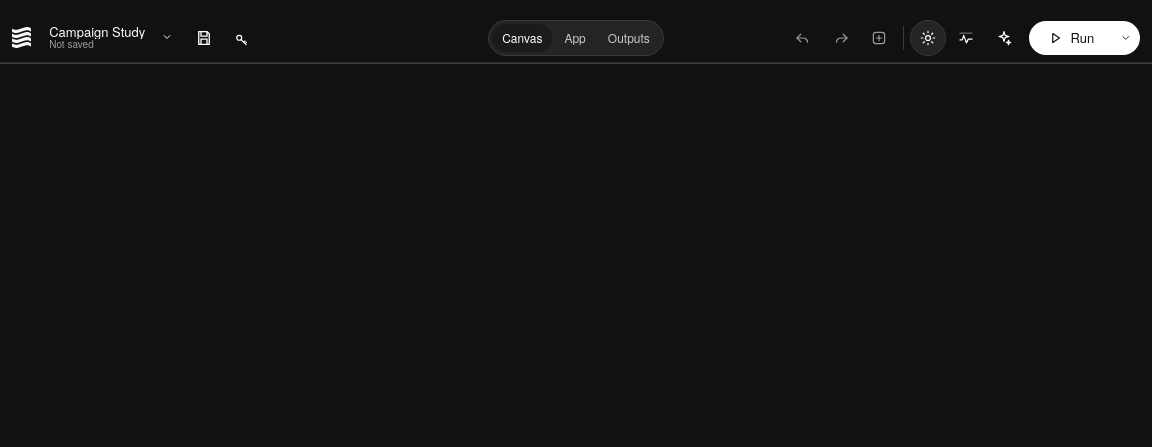
Test: CurrentCommandBar › opens and closes the project menu with Escape and outside click
Click the button with aria-label "Project menu for Campaign Study".
click(112, 37)  # box [39,20,184,55]
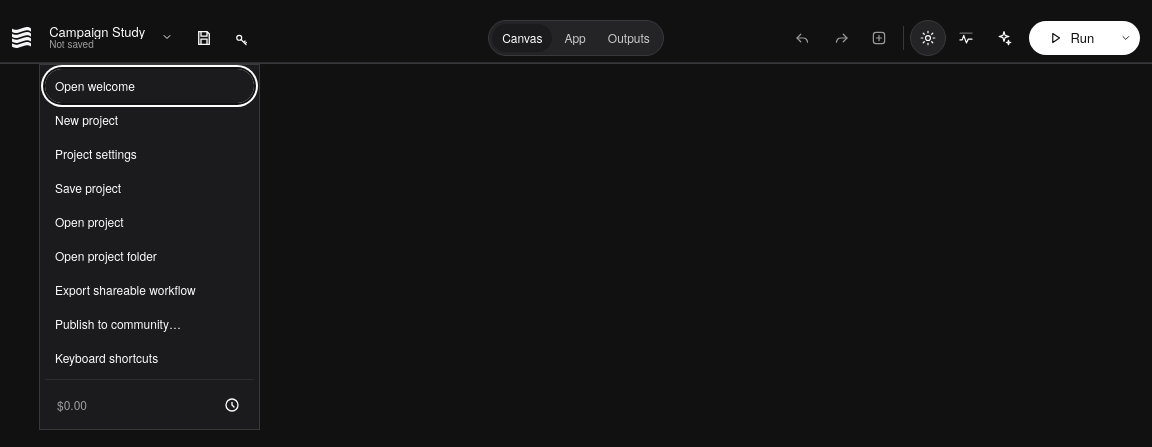
Press Escape
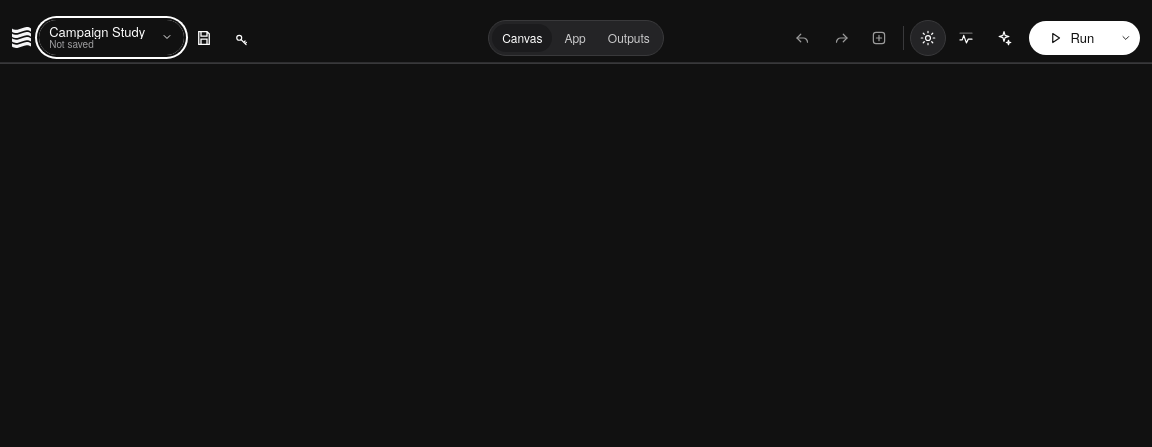
Now the menu "Project menu" is gone
Click the button with aria-label "Project menu for Campaign Study".
click(112, 37)  # box [39,20,184,55]
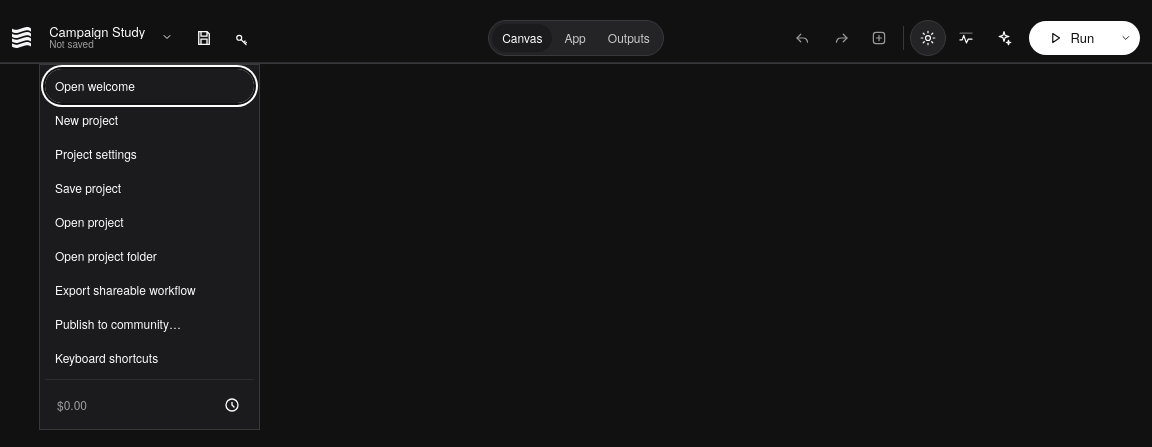
Press the mouse on the element that starts with "Campaign Study" at (576,38), box [0,12,1151,64]
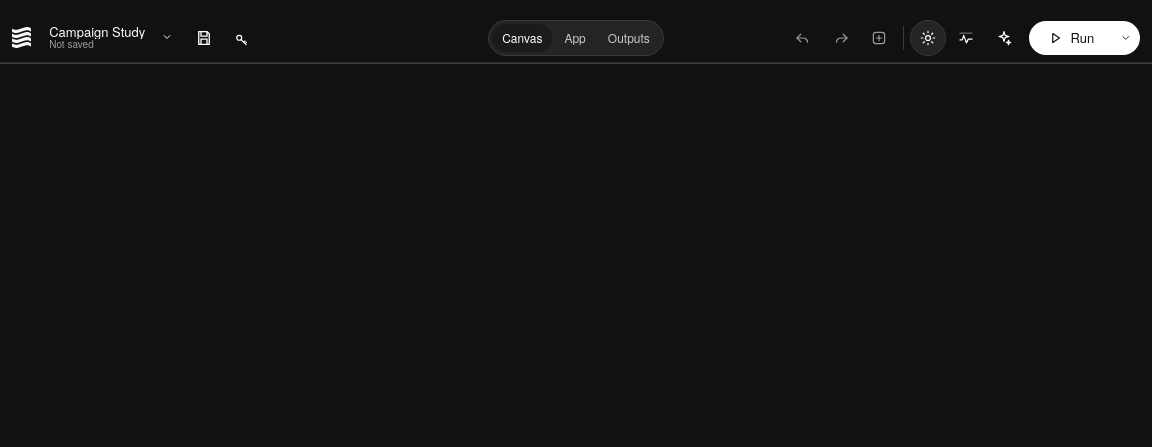
Now the menu "Project menu" is gone
